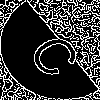C: (25, 25, 93, 82)
